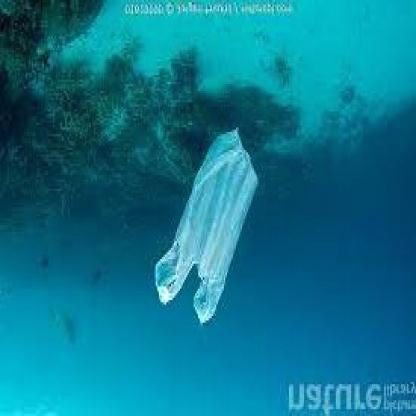pbag: (148, 121, 263, 334)
